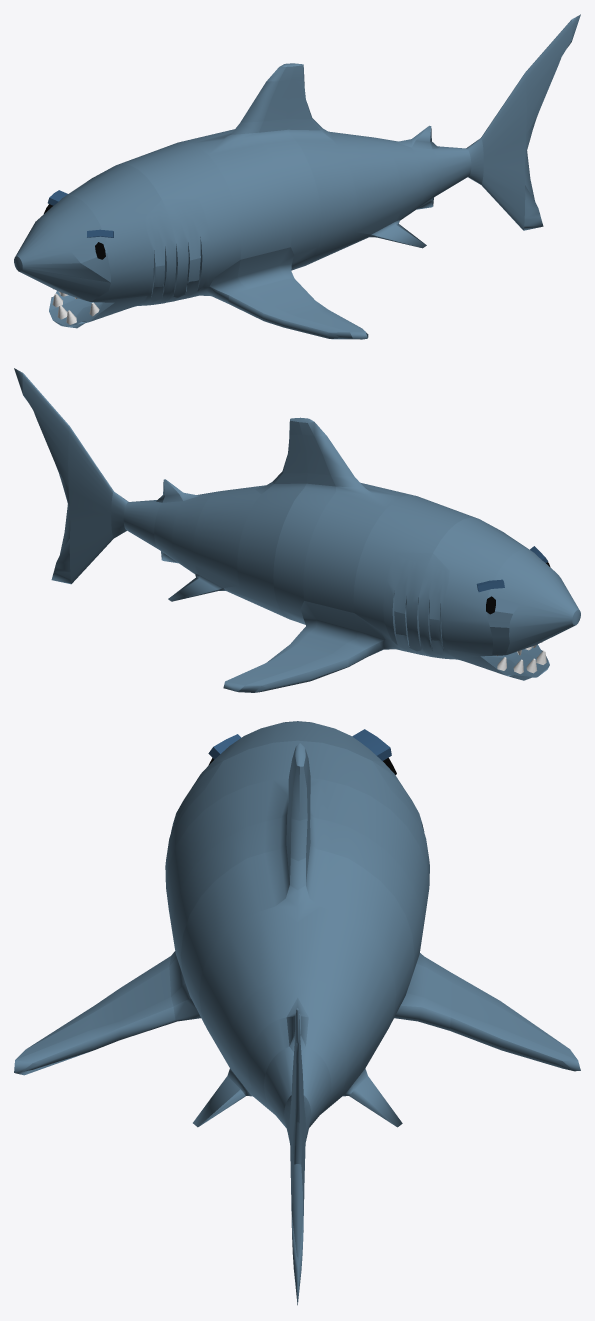
Rendered from Shark.fbx.
3 renders of one model, top to bottom at view 1: azimuth 30°, elevation 25°; view 2: azimuth 150°, elevation 25°; view 3: azimuth 270°, elevation 25°, orthographic. The views are drawn at different scales.
Parts seen in each view (by area): view 1: pCube5; view 2: pCube5; view 3: pCube5.
Boxes of the visible parts, x1=… form: pCube5: x1=14, y1=14, x2=580, y2=339; pCube5: x1=14, y1=368, x2=580, y2=692; pCube5: x1=14, y1=721, x2=580, y2=1305.
Size of the model in its own units: 3.07 by 1.17 by 1.67.
